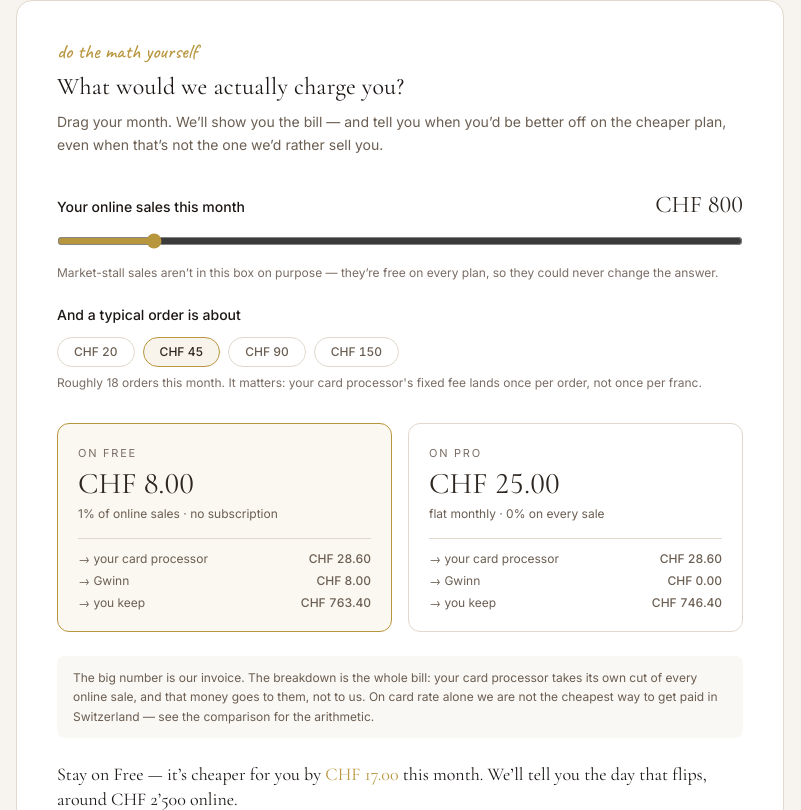
it: FeeCalculator › quotes 1% of online sales on the Free plan
The width and height of the screenshot is (801, 810).
Set the slider to "1000" at (177,241), box [57, 233, 743, 249]
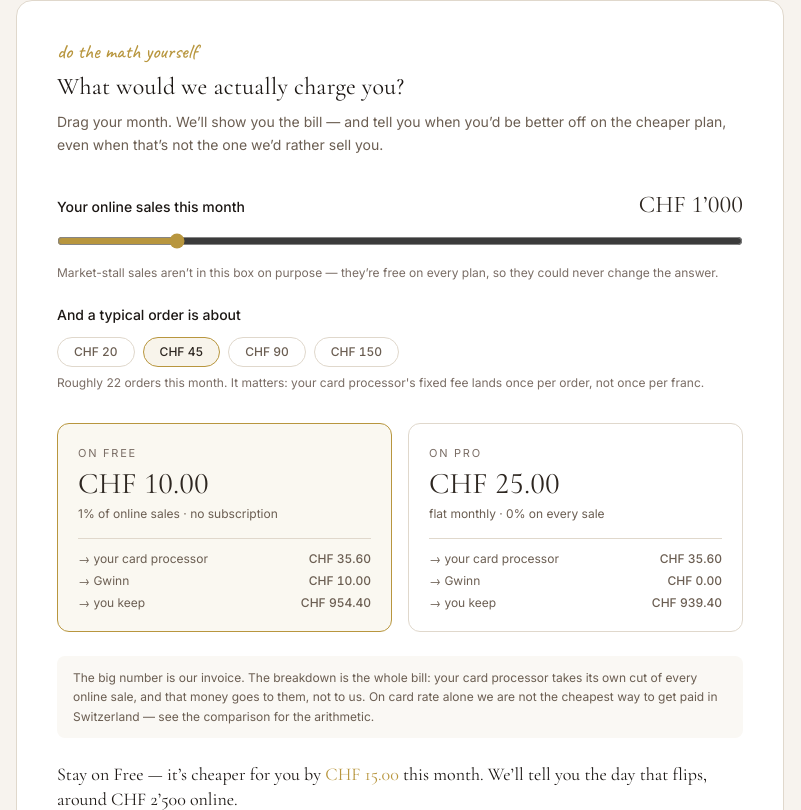
Now the text with test id "fee-free-total" reads "CHF 10.00", box [78, 465, 209, 502]
